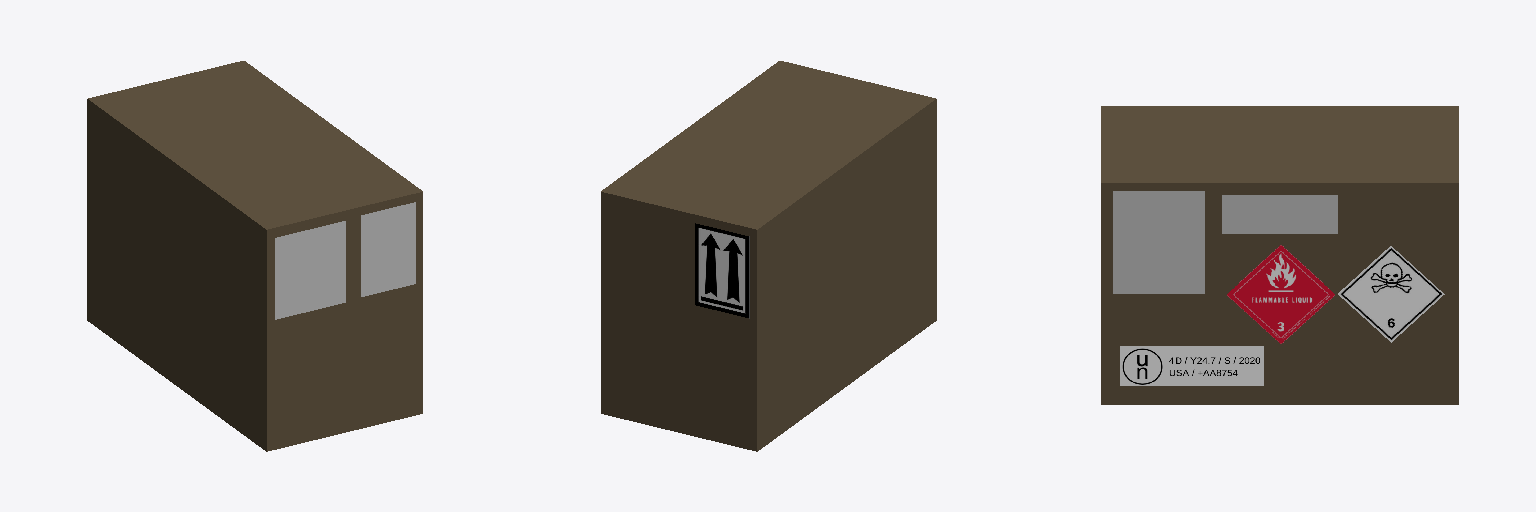
3 renders of one model, left to right at view 1: azimuth 30°, elevation 25°; view 2: azimuth 150°, elevation 25°; view 3: azimuth 270°, elevation 25°, orthographic.
Visible parts, largest first — view 1: Cube, Screenshot_2025-04-01_151141, Screenshot_2025-04-02_141838; view 2: Cube, image30; view 3: Cube, Screenshot_2025-04-02_141724, image29, image32, image53, text1.
Part boxes in pixels (left/top/right/bottom): Cube: left=87, top=61, right=422, bottom=451; Screenshot_2025-04-01_151141: left=275, top=221, right=345, bottom=319; Screenshot_2025-04-02_141838: left=361, top=202, right=415, bottom=296; Cube: left=601, top=61, right=936, bottom=451; image30: left=695, top=223, right=749, bottom=318; Cube: left=1101, top=106, right=1458, bottom=404; Screenshot_2025-04-02_141724: left=1113, top=191, right=1204, bottom=293; image29: left=1120, top=346, right=1263, bottom=385; image32: left=1227, top=245, right=1334, bottom=343; image53: left=1338, top=246, right=1444, bottom=342; text1: left=1222, top=195, right=1337, bottom=233.
Size of the model in its own units: 2.02 by 2.71 by 3.98.
9 materials, 4 textured.